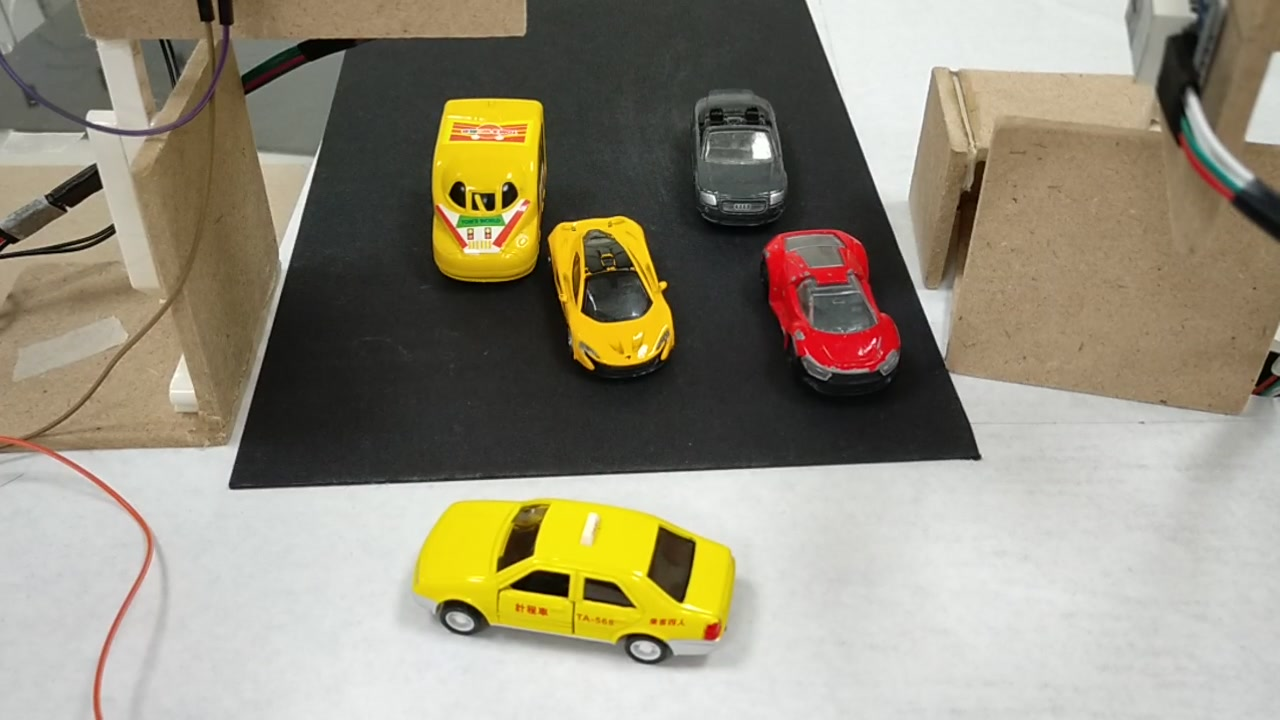car: (420, 497, 735, 667), (765, 230, 903, 396), (545, 215, 680, 378), (689, 89, 788, 227)
